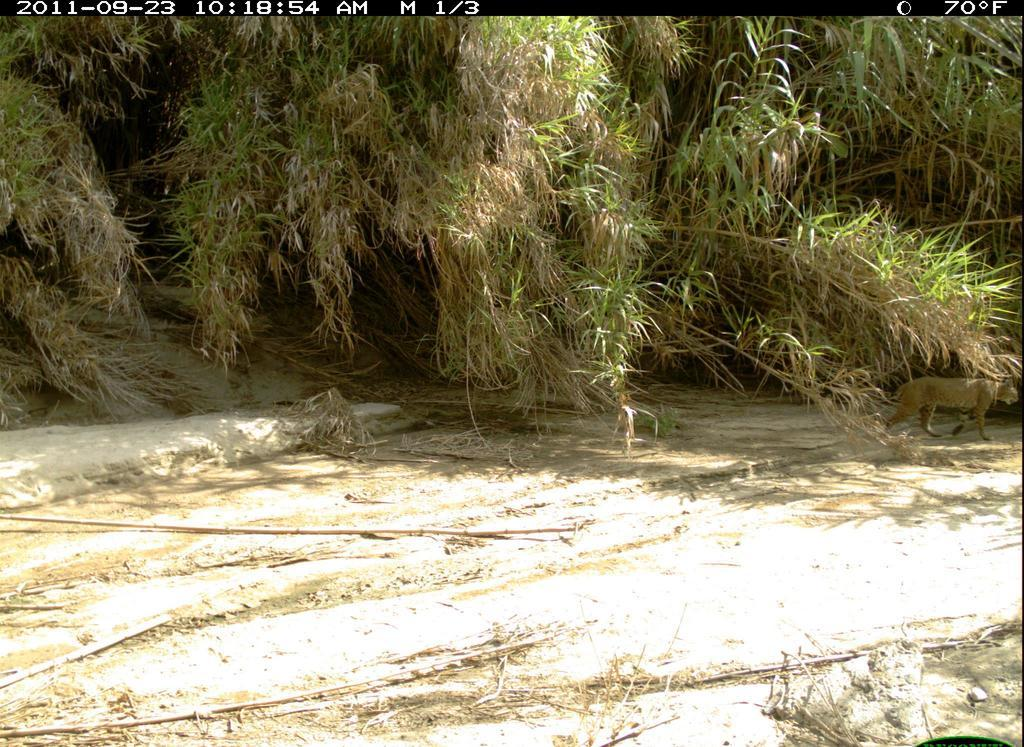bobcat: (879, 368, 1021, 449)
